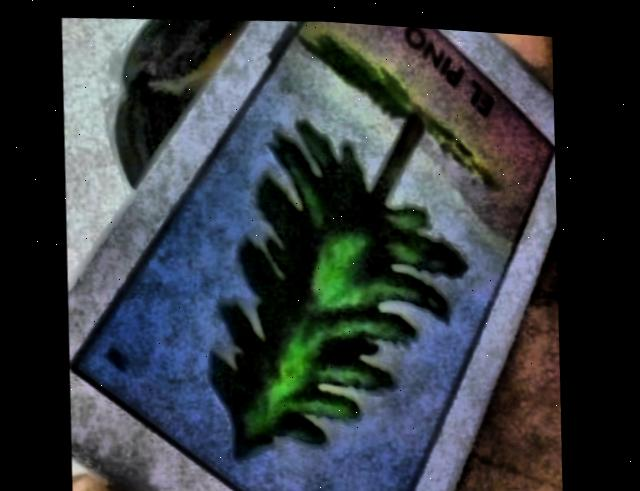El Pino: (76, 16, 554, 491)
